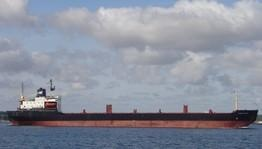Cargoship: (4, 74, 262, 129)
